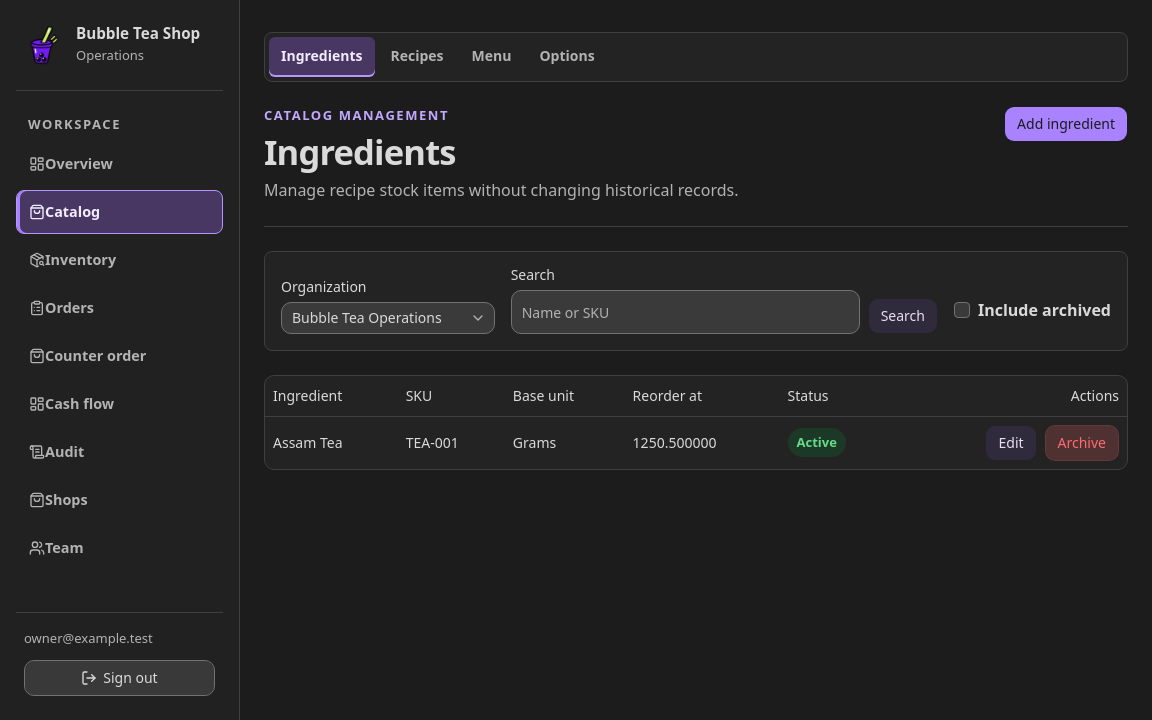
Test case: App › refreshes the list and explains an optimistic edit conflict
Click the button "Edit".
click(1011, 443)  # box [986,425,1037,461]
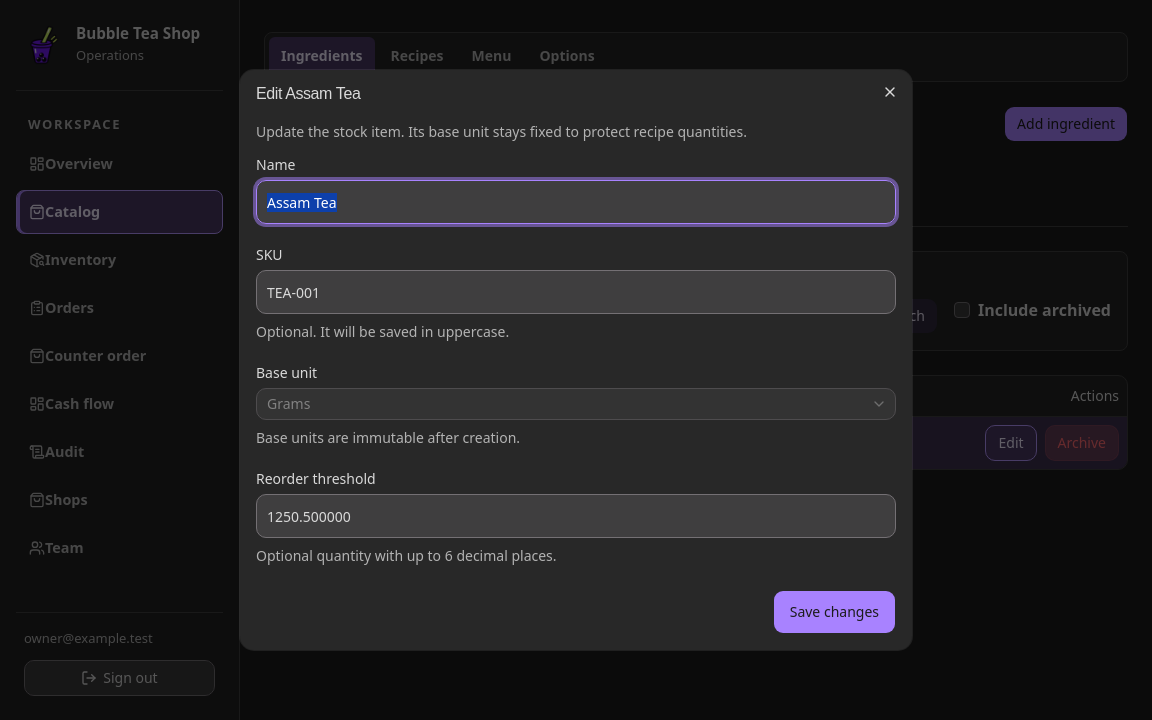
Click the button "Save changes".
click(834, 612)  # box [773,590,896,634]
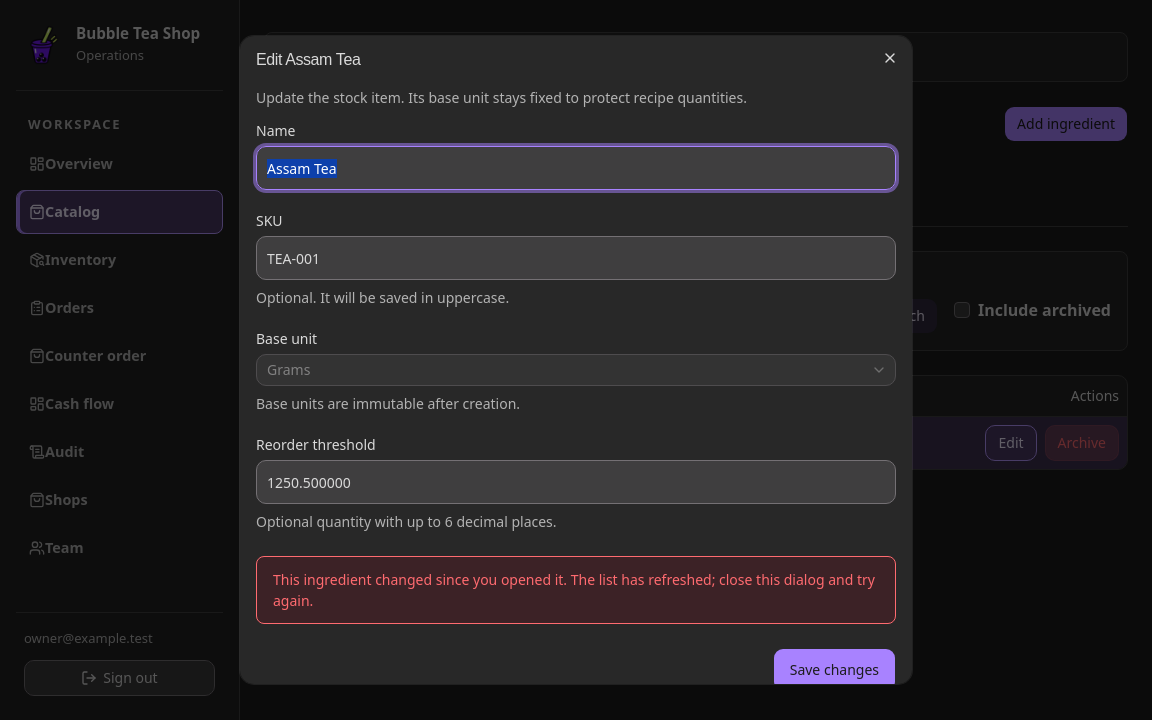
Result: the message shows "changed since you opened it" at [273,570,875,610]
